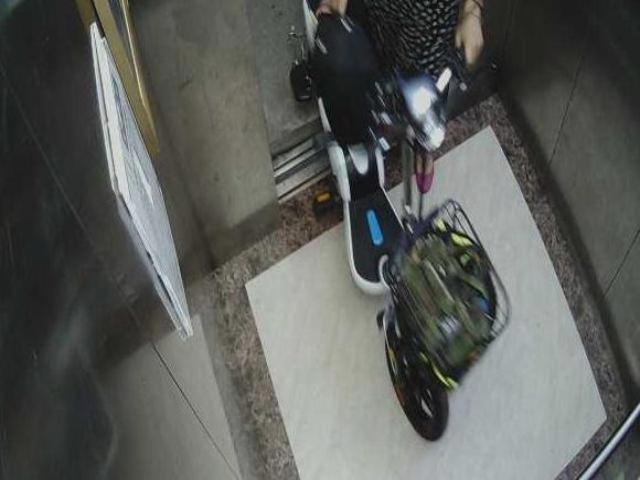emotor: (302, 10, 498, 436)
